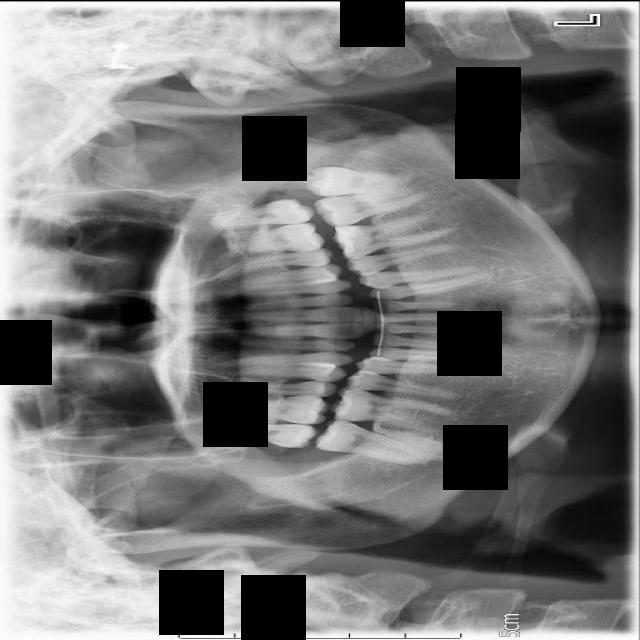52: (328, 214, 377, 265)
73: (579, 22, 589, 29)
BioHorizons Implant: (188, 196, 318, 232)
Biomet 3i Implant: (304, 163, 414, 197)
Blue Sky Bio Implant: (312, 183, 429, 229)
Caries: (203, 419, 319, 448)
Implant: (314, 415, 431, 467)
